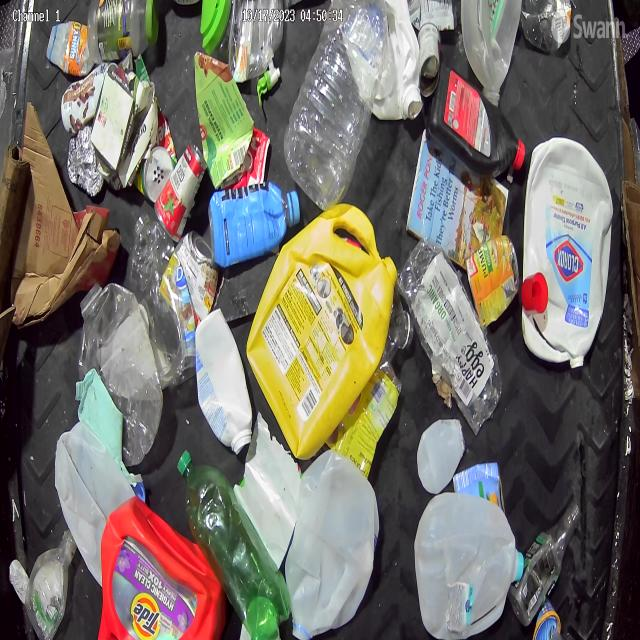can: (175, 231, 219, 308), (418, 22, 442, 98)
milk_jug: (522, 138, 613, 371), (285, 451, 379, 640), (414, 488, 524, 640), (349, 3, 425, 124), (195, 308, 253, 454), (460, 1, 519, 104)
non_white_jug: (246, 208, 394, 452), (99, 496, 226, 639), (428, 61, 525, 178)
plastic_bottle: (508, 498, 582, 627)
